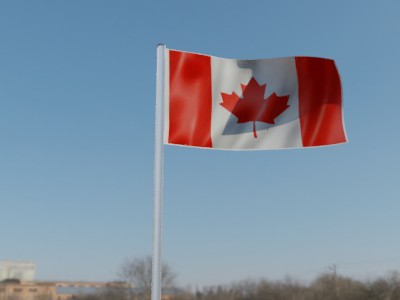Canada flag: (163, 48, 352, 150)
